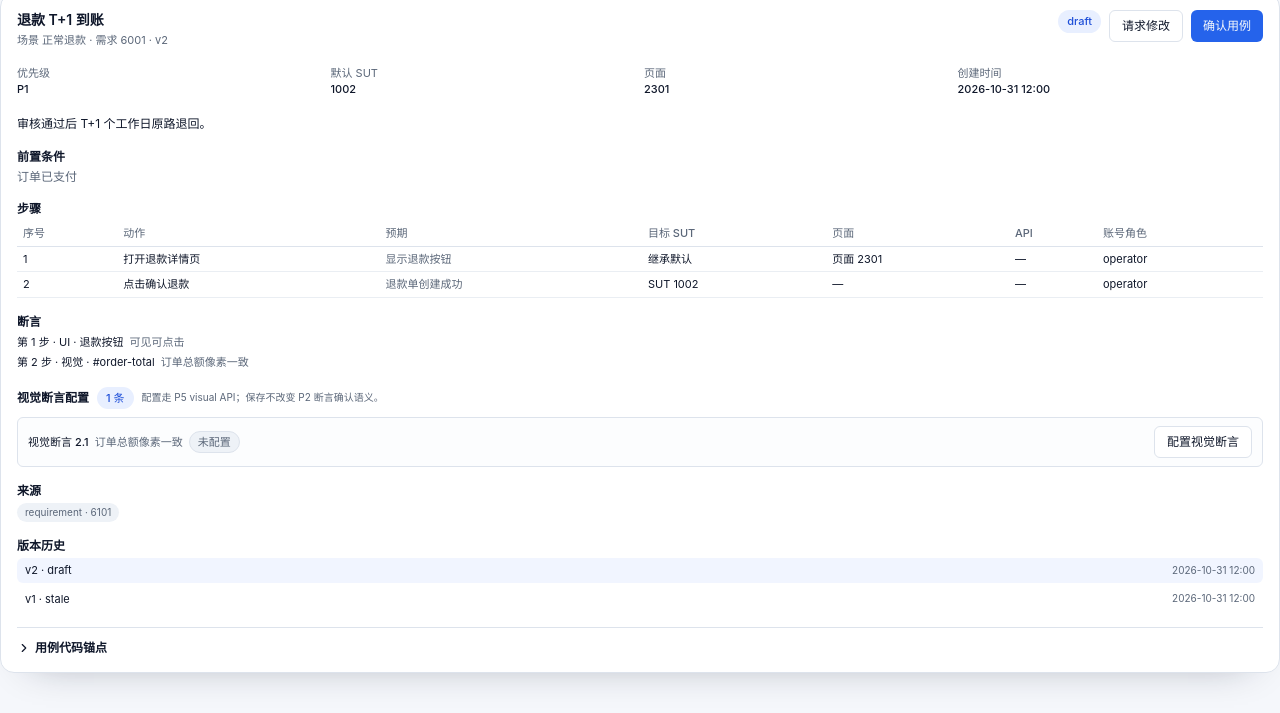
Scenario: CaseDetailPanel visual config and anchors › uses the design assertion id when the API exposes it
This screenshot has width=1280, height=713.
expect the heading "视觉断言配置" is shown: met, box [17,390,89,406]
Click the button "配置视觉断言". click: [1203, 442]
box: [1154,426,1252,458]
(page scrolled)
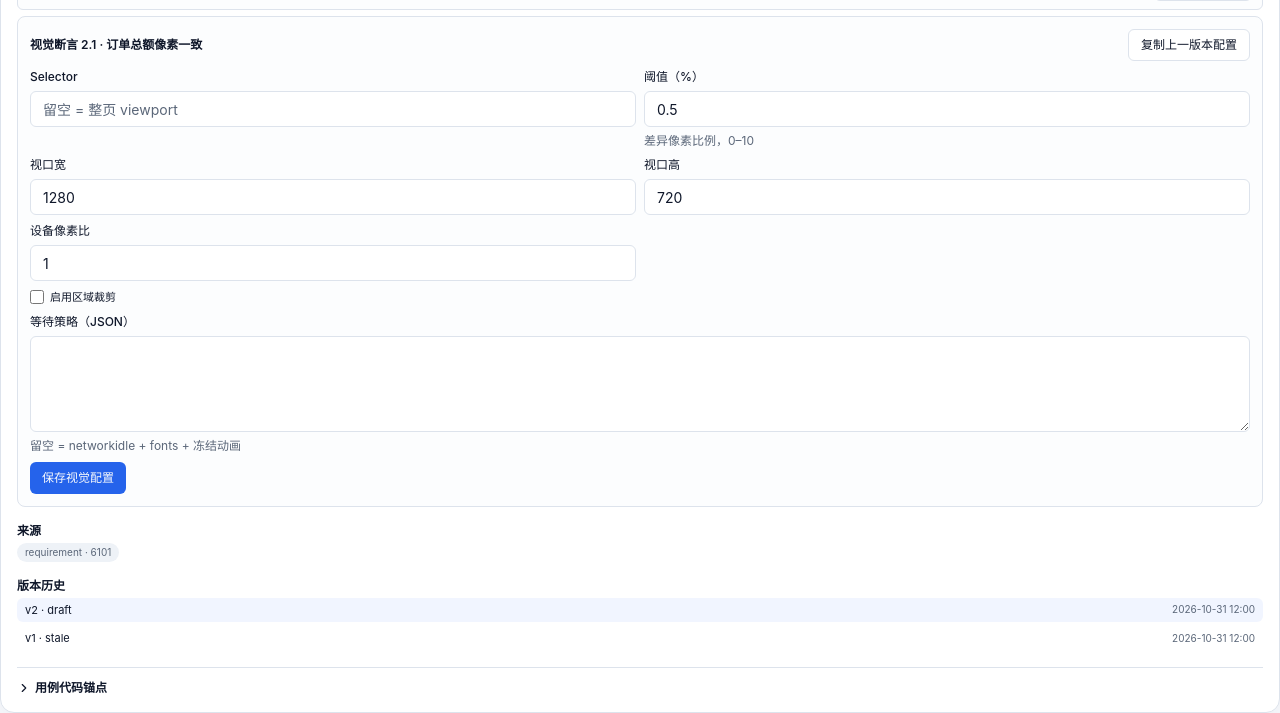
expect the button "保存视觉配置" is enabled: met, box [30,462,126,494]
